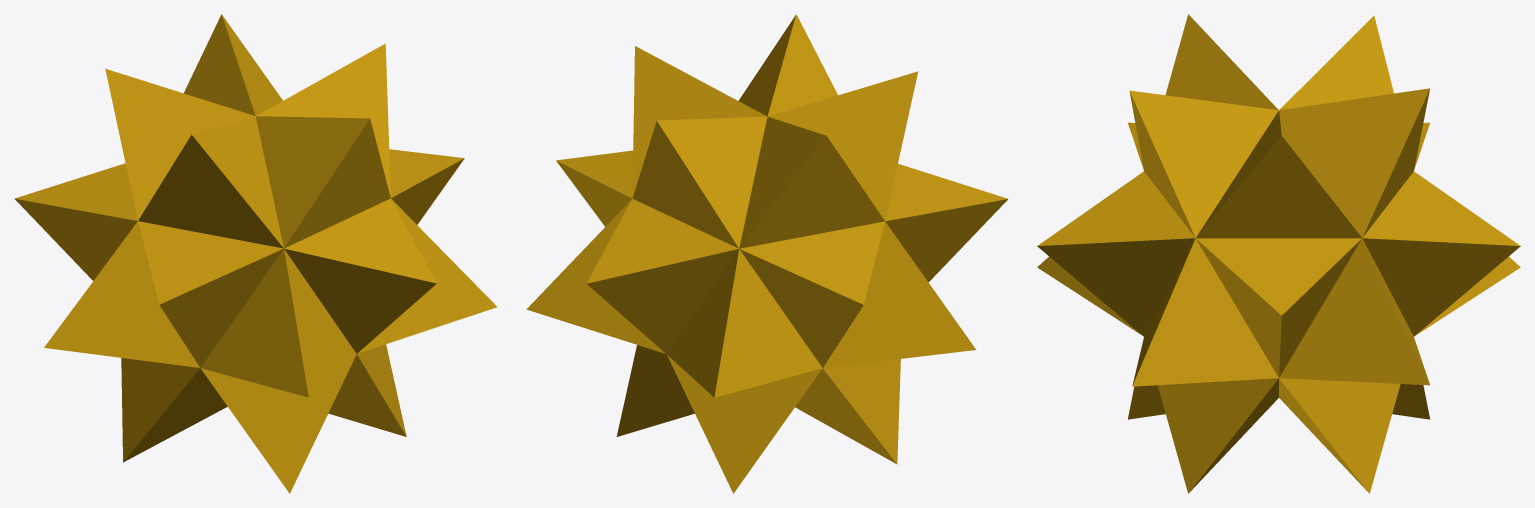
Rendered from star.obj.
3 views of the same model, side by side, from view 1: azimuth 30°, elevation 25°; view 2: azimuth 150°, elevation 25°; view 3: azimuth 270°, elevation 25° (orthographic). The views are drawn at different scales.
Visible parts, largest first — view 1: ICO球; view 2: ICO球; view 3: ICO球.
Part boxes in pixels (left/top/right/bottom): ICO球: left=14, top=14, right=497, bottom=493; ICO球: left=526, top=14, right=1007, bottom=493; ICO球: left=1037, top=14, right=1520, bottom=493.
Size of the model in its own units: 0.8128 by 0.6552 by 0.7757.
